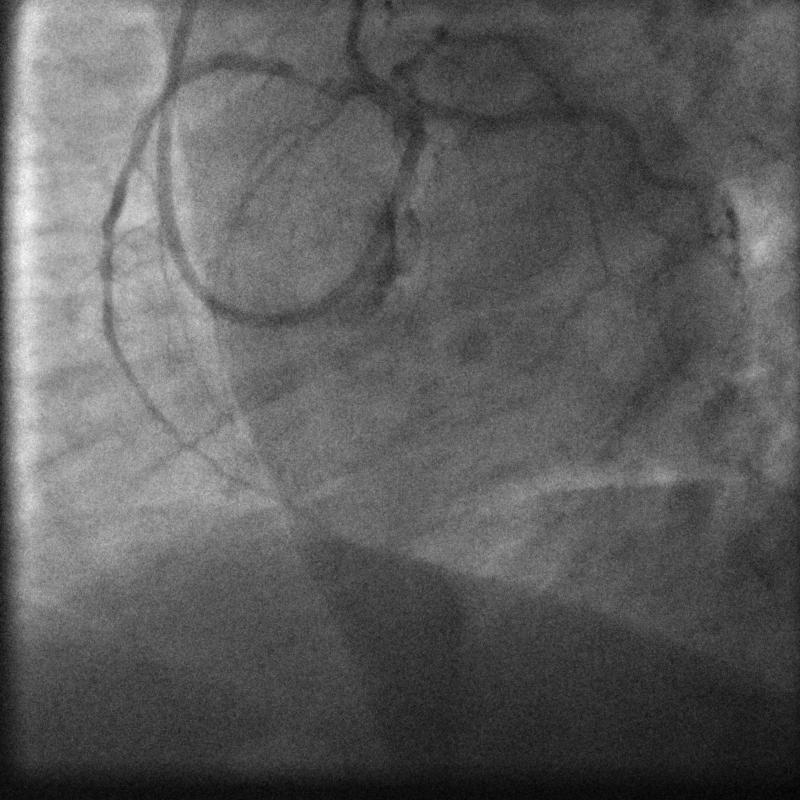Stenosis: (287, 59, 350, 102)
